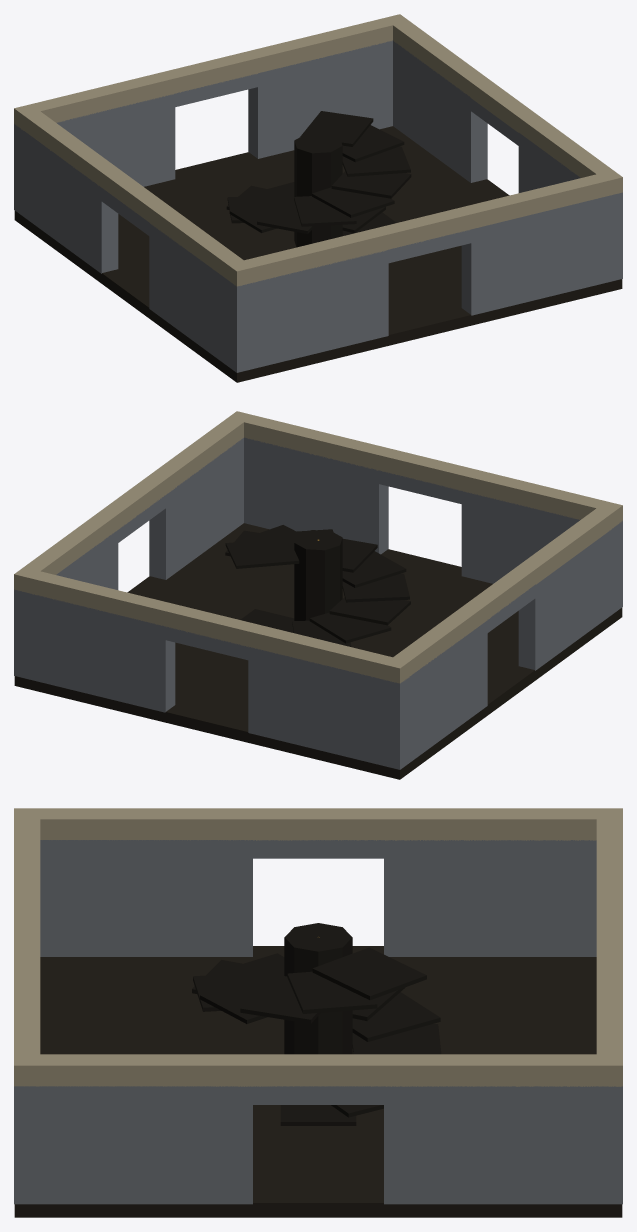
File: CryptStairwell.fbx
3 renders of one model, top to bottom at view 1: azimuth 30°, elevation 25°; view 2: azimuth 150°, elevation 25°; view 3: azimuth 270°, elevation 25°, orthographic. The views are drawn at different scales.
Parts seen in each view (by area): view 1: CryptStairwell; view 2: CryptStairwell; view 3: CryptStairwell.
Boxes of the visible parts, x1,y1,x2,y2 form: CryptStairwell: (14,14,622,382); CryptStairwell: (14,411,622,779); CryptStairwell: (14,808,622,1217).
Size of the model in its own units: 1202 by 332 by 1202.
5 materials, 5 textured.
